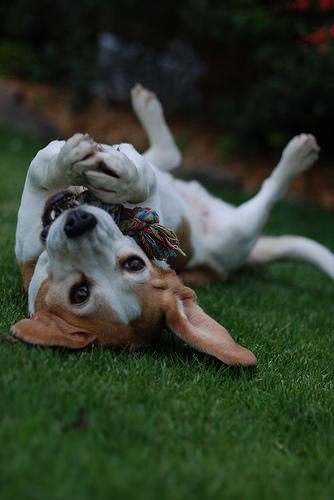dog-beagle: (9, 190, 255, 364)
